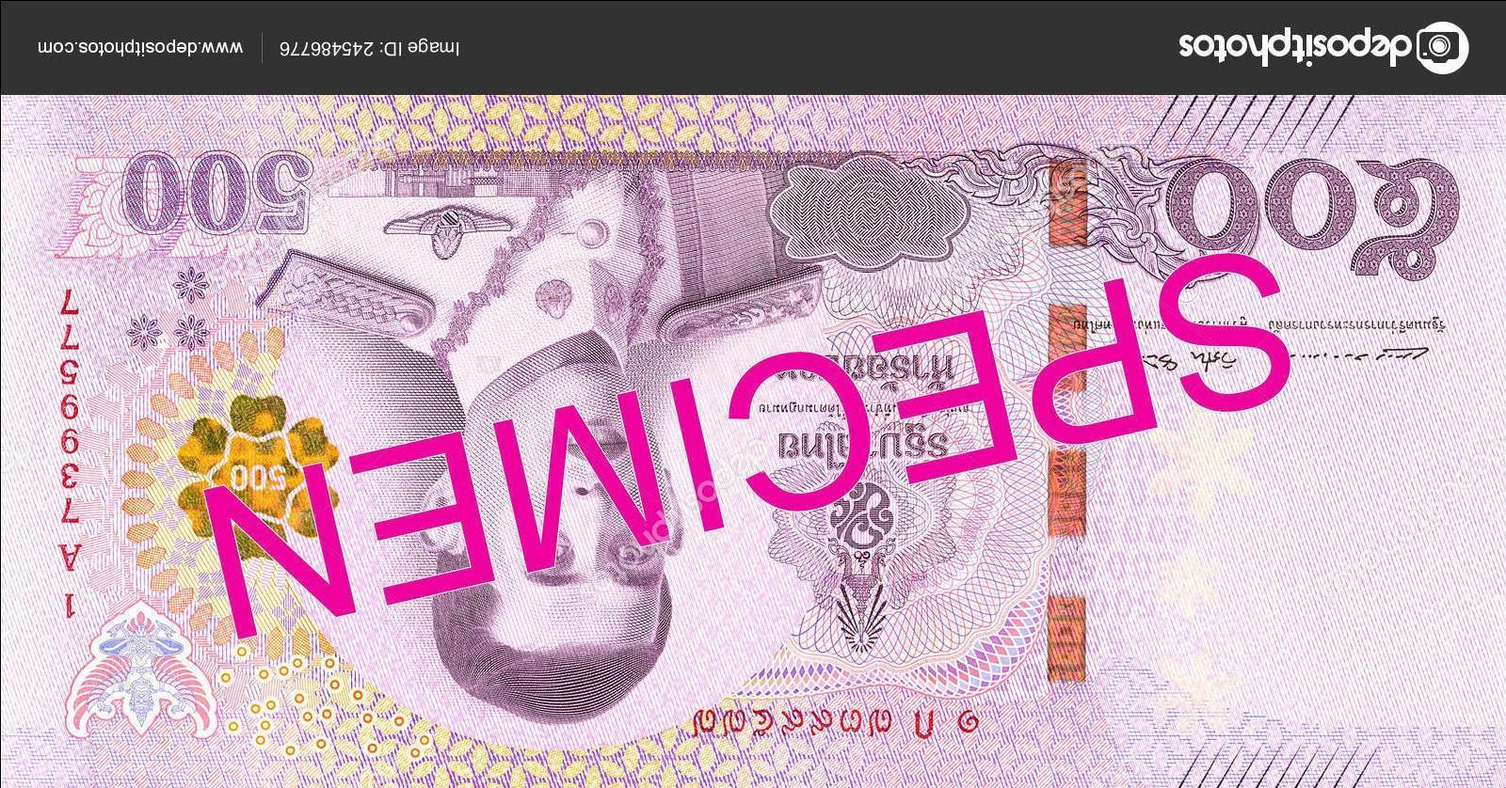500BahtTai: (0, 96, 1506, 788)
